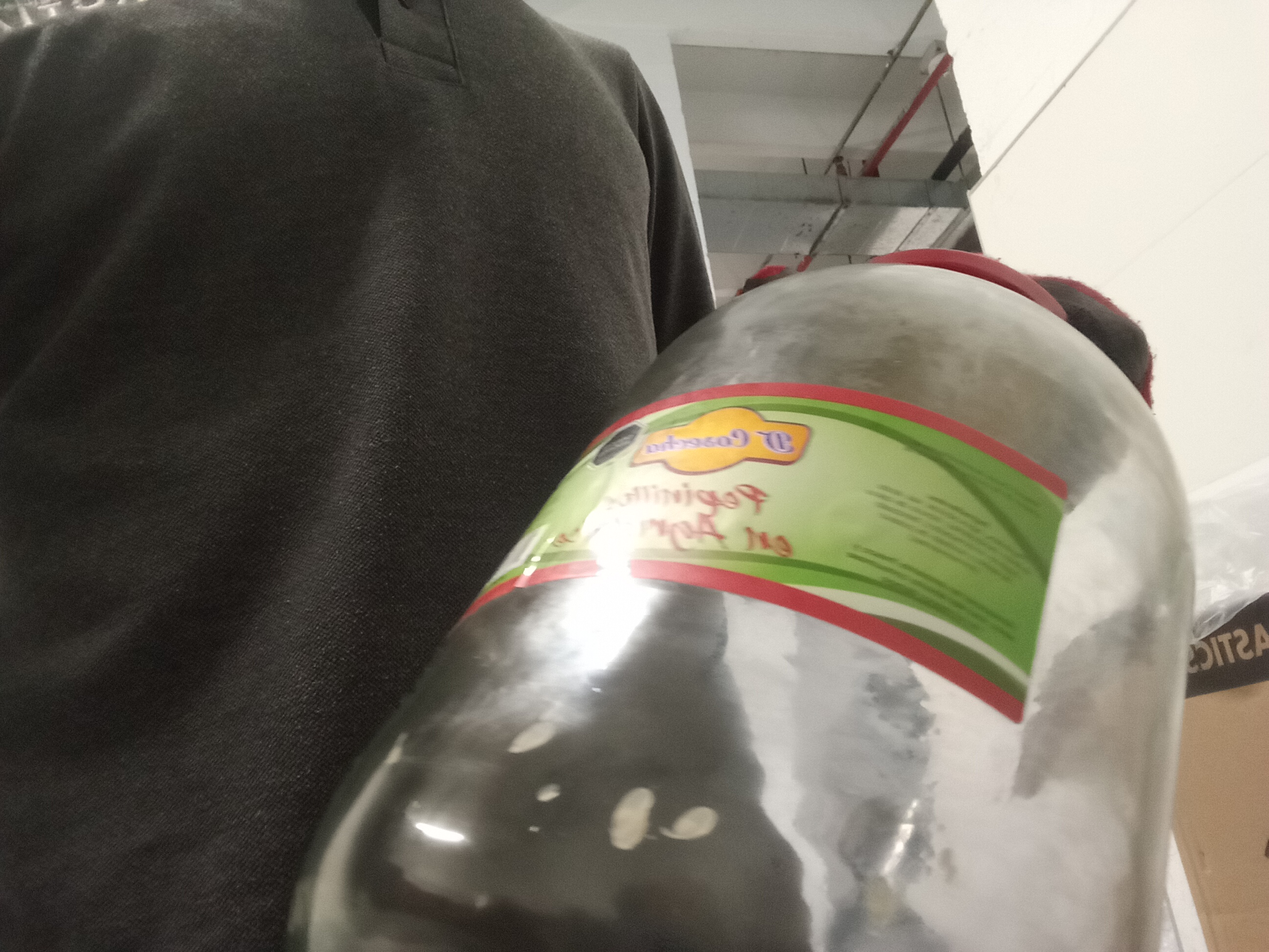Vidrio: (287, 262, 1195, 952)
